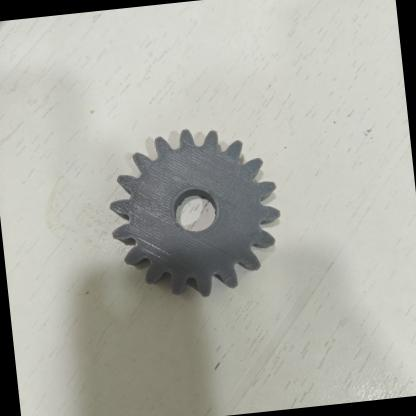gear: (84, 112, 302, 316)
